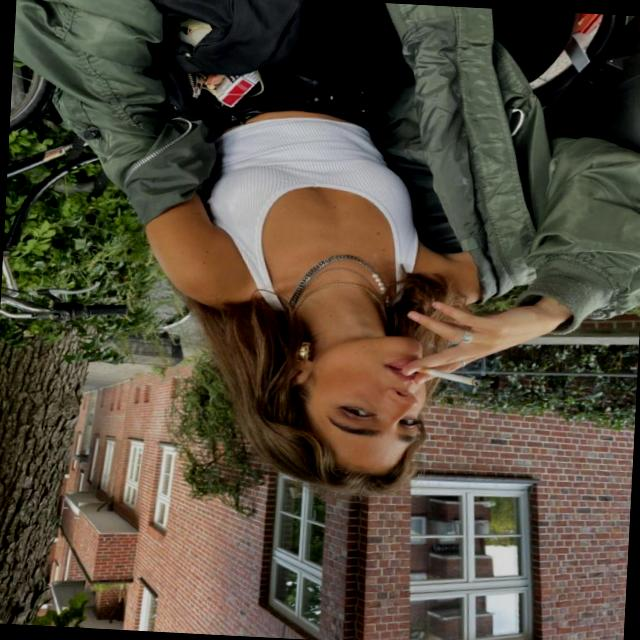smoke: (368, 342, 486, 395)
